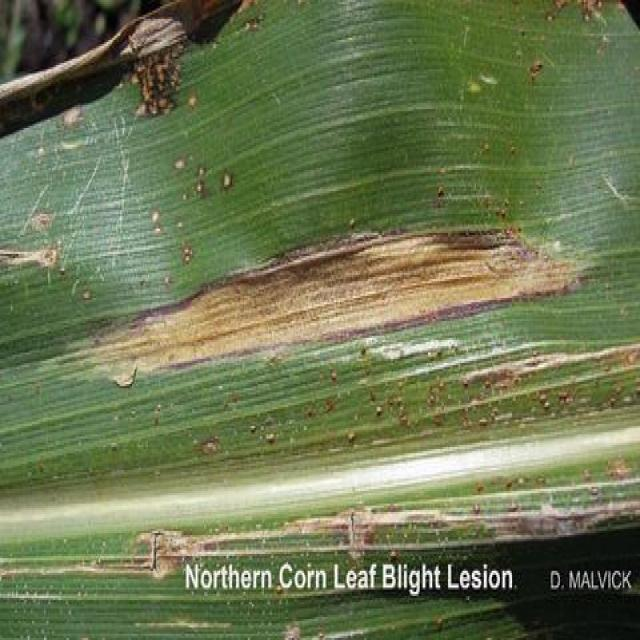blight: (66, 198, 586, 391)
